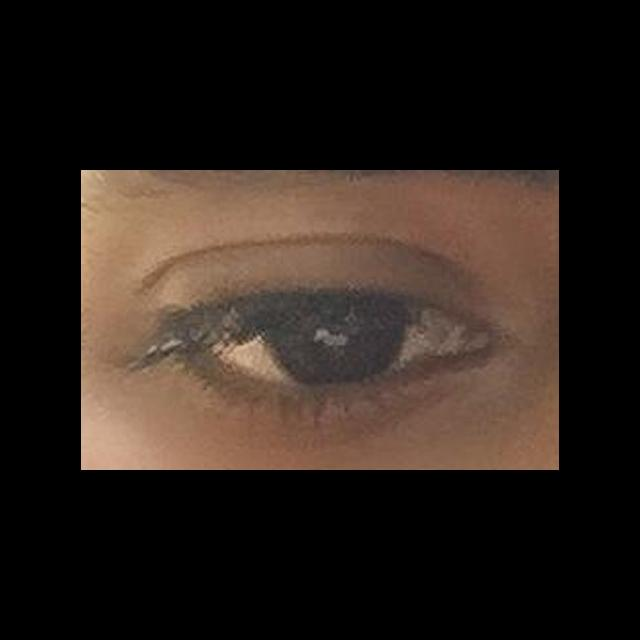eye: (196, 303, 459, 388)
iris: (267, 306, 408, 385)
